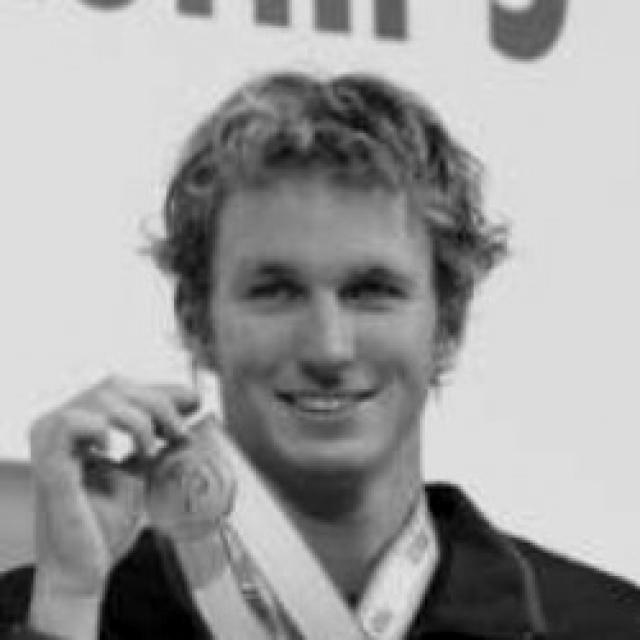real: (169, 80, 477, 481), (223, 244, 422, 315)
